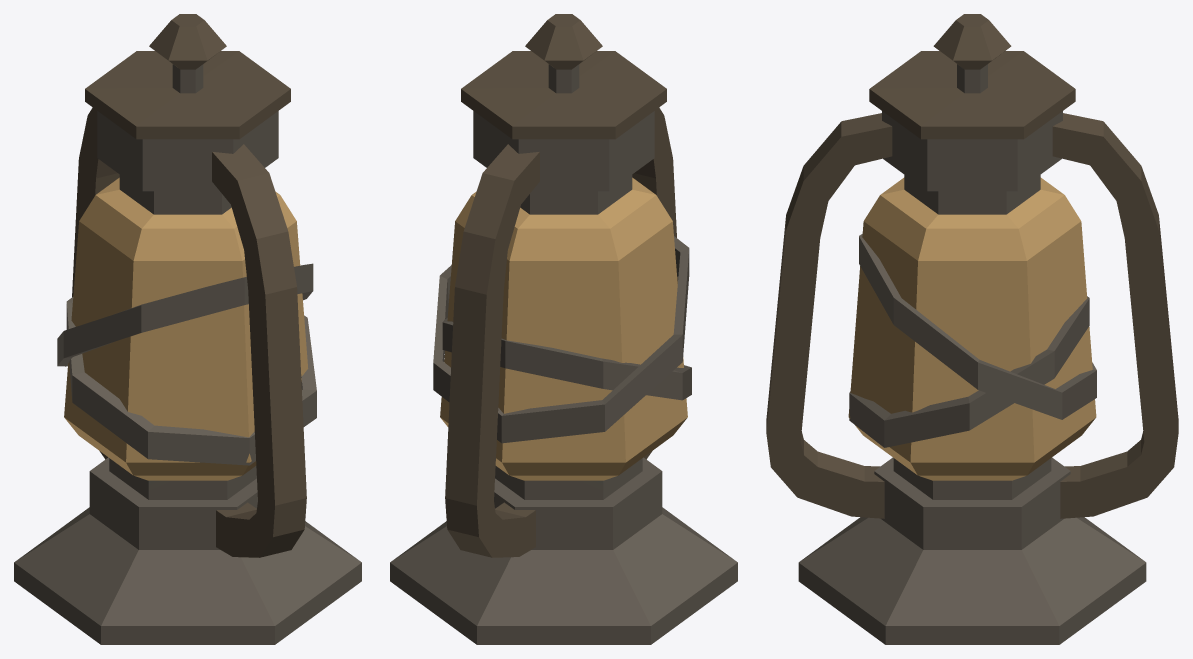
Rendered from lantern.fbx.
3 renders of one model, left to right at view 1: azimuth 30°, elevation 25°; view 2: azimuth 150°, elevation 25°; view 3: azimuth 270°, elevation 25°, orthographic.
Visible parts, largest first — view 1: Plane; view 2: Plane; view 3: Plane.
Boxes of the visible parts, box(x1,y1,x2,y2) form: Plane: box(14, 14, 361, 644); Plane: box(390, 14, 737, 644); Plane: box(766, 14, 1178, 644).
Size of the model in its own units: 33.14 by 68.09 by 45.31.
